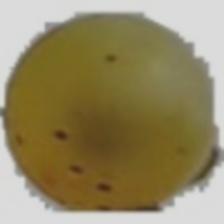grapes: (2, 3, 187, 181)
